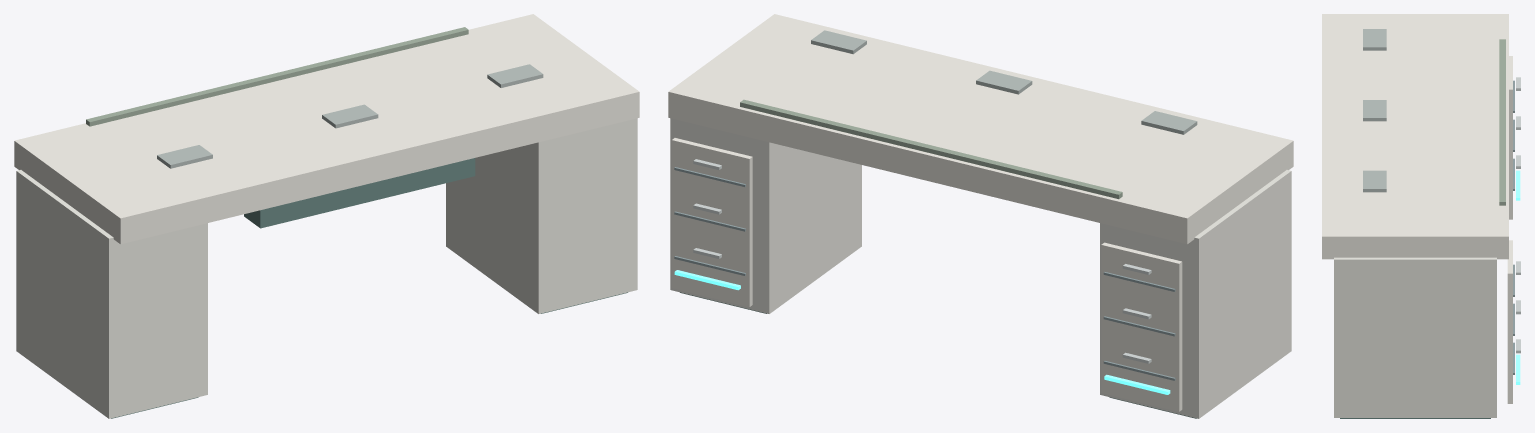
File: s7-e0e1-w01-workstation-desk.glb
The picture shows the model from 3 angles, left to right: view 1: azimuth 30°, elevation 25°; view 2: azimuth 150°, elevation 25°; view 3: azimuth 270°, elevation 25°; orthographic projection. The views are drawn at different scales.
Visible parts, largest first — view 1: ergonomic-desk-top-000, drawer-cabinet-003, drawer-cabinet-013, cable-routing-023, rear-tech-trim-001, desktop-grommet-025, desktop-grommet-026, desktop-grommet-024; view 2: ergonomic-desk-top-000, drawer-cabinet-003, drawer-cabinet-013, cabinet-face-004, cabinet-face-014, rear-tech-trim-001, desktop-grommet-025, desktop-grommet-024, desktop-grommet-026; view 3: ergonomic-desk-top-000, drawer-cabinet-013, rear-tech-trim-001, cabinet-face-014, cabinet-face-004, desktop-grommet-026, desktop-grommet-024, desktop-grommet-025.
Part boxes in pixels (x1,y1,x2,y2): ergonomic-desk-top-000: (14, 14, 639, 244); drawer-cabinet-003: (16, 170, 207, 418); drawer-cabinet-013: (446, 118, 637, 313); cable-routing-023: (244, 158, 475, 228); rear-tech-trim-001: (86, 27, 468, 126); desktop-grommet-025: (322, 104, 378, 128); desktop-grommet-026: (487, 64, 543, 87); desktop-grommet-024: (157, 145, 212, 168); ergonomic-desk-top-000: (668, 14, 1293, 244); drawer-cabinet-003: (1100, 170, 1291, 418); drawer-cabinet-013: (670, 118, 861, 313); cabinet-face-004: (1101, 242, 1182, 411); cabinet-face-014: (671, 138, 752, 306); rear-tech-trim-001: (740, 99, 1122, 199); desktop-grommet-025: (976, 70, 1032, 94); desktop-grommet-024: (1141, 111, 1197, 134); desktop-grommet-026: (811, 30, 866, 54); ergonomic-desk-top-000: (1322, 14, 1508, 259); drawer-cabinet-013: (1334, 257, 1496, 417); rear-tech-trim-001: (1499, 39, 1505, 205); cabinet-face-014: (1507, 240, 1512, 403); cabinet-face-004: (1509, 56, 1512, 219); desktop-grommet-026: (1363, 170, 1386, 192); desktop-grommet-024: (1363, 29, 1386, 50); desktop-grommet-025: (1363, 100, 1386, 121).
Size of the model in its own units: 2.24 by 0.918 by 0.83.
